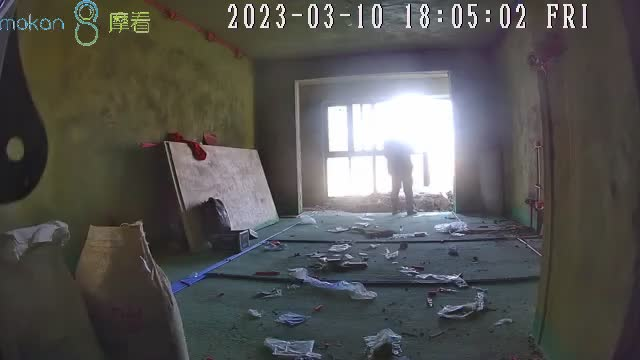people: (383, 138, 417, 216)
window: (325, 97, 455, 196)
